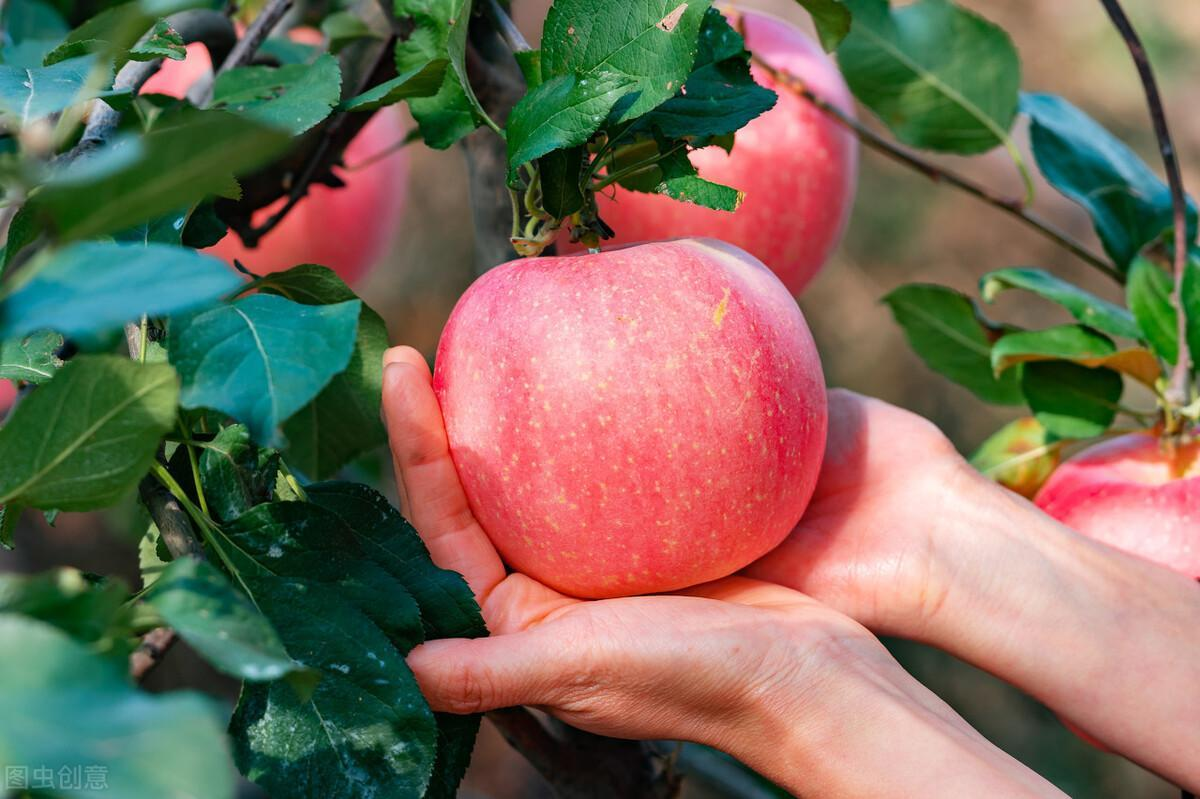apple: (436, 242, 833, 603), (572, 9, 856, 297)
